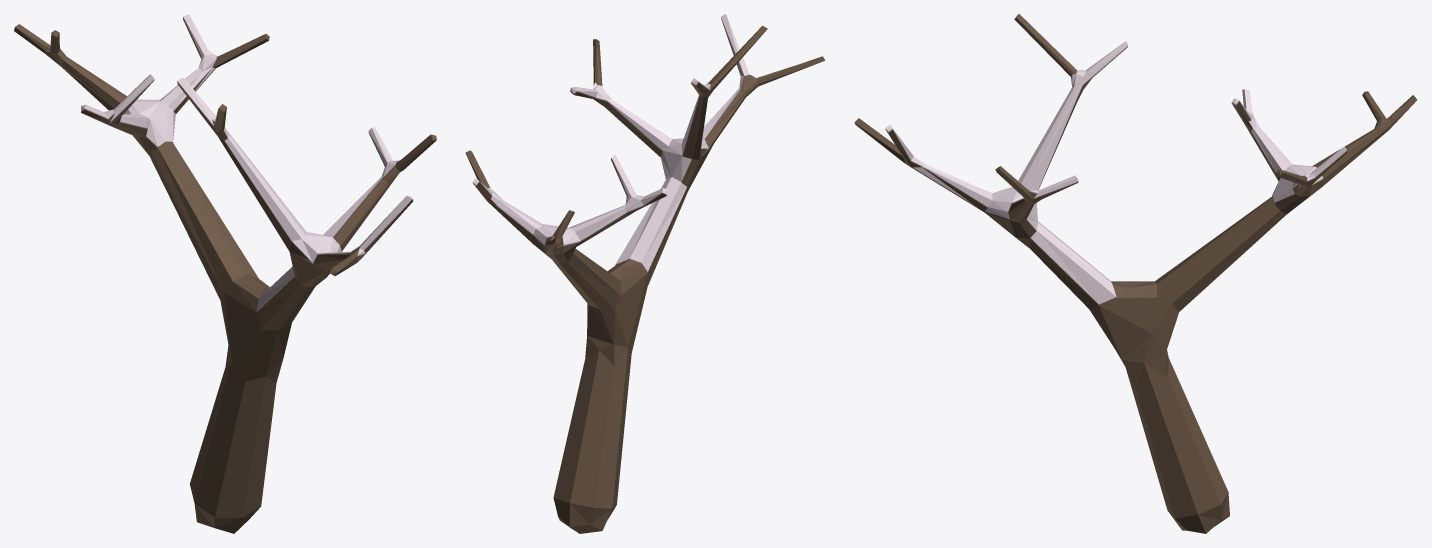
The model's file is sneeuw boom.fbx.
The picture shows the model from 3 angles, left to right: view 1: azimuth 30°, elevation 25°; view 2: azimuth 150°, elevation 25°; view 3: azimuth 270°, elevation 25°; orthographic projection. The views are drawn at different scales.
Parts seen in each view (by area): view 1: Cube; view 2: Cube; view 3: Cube.
Boxes of the visible parts, left/top/right/bottom form: Cube: left=14, top=14, right=436, bottom=533; Cube: left=465, top=14, right=825, bottom=533; Cube: left=854, top=14, right=1417, bottom=533.
Bounding box in the file's own units: 66.74 × 152 × 164.
